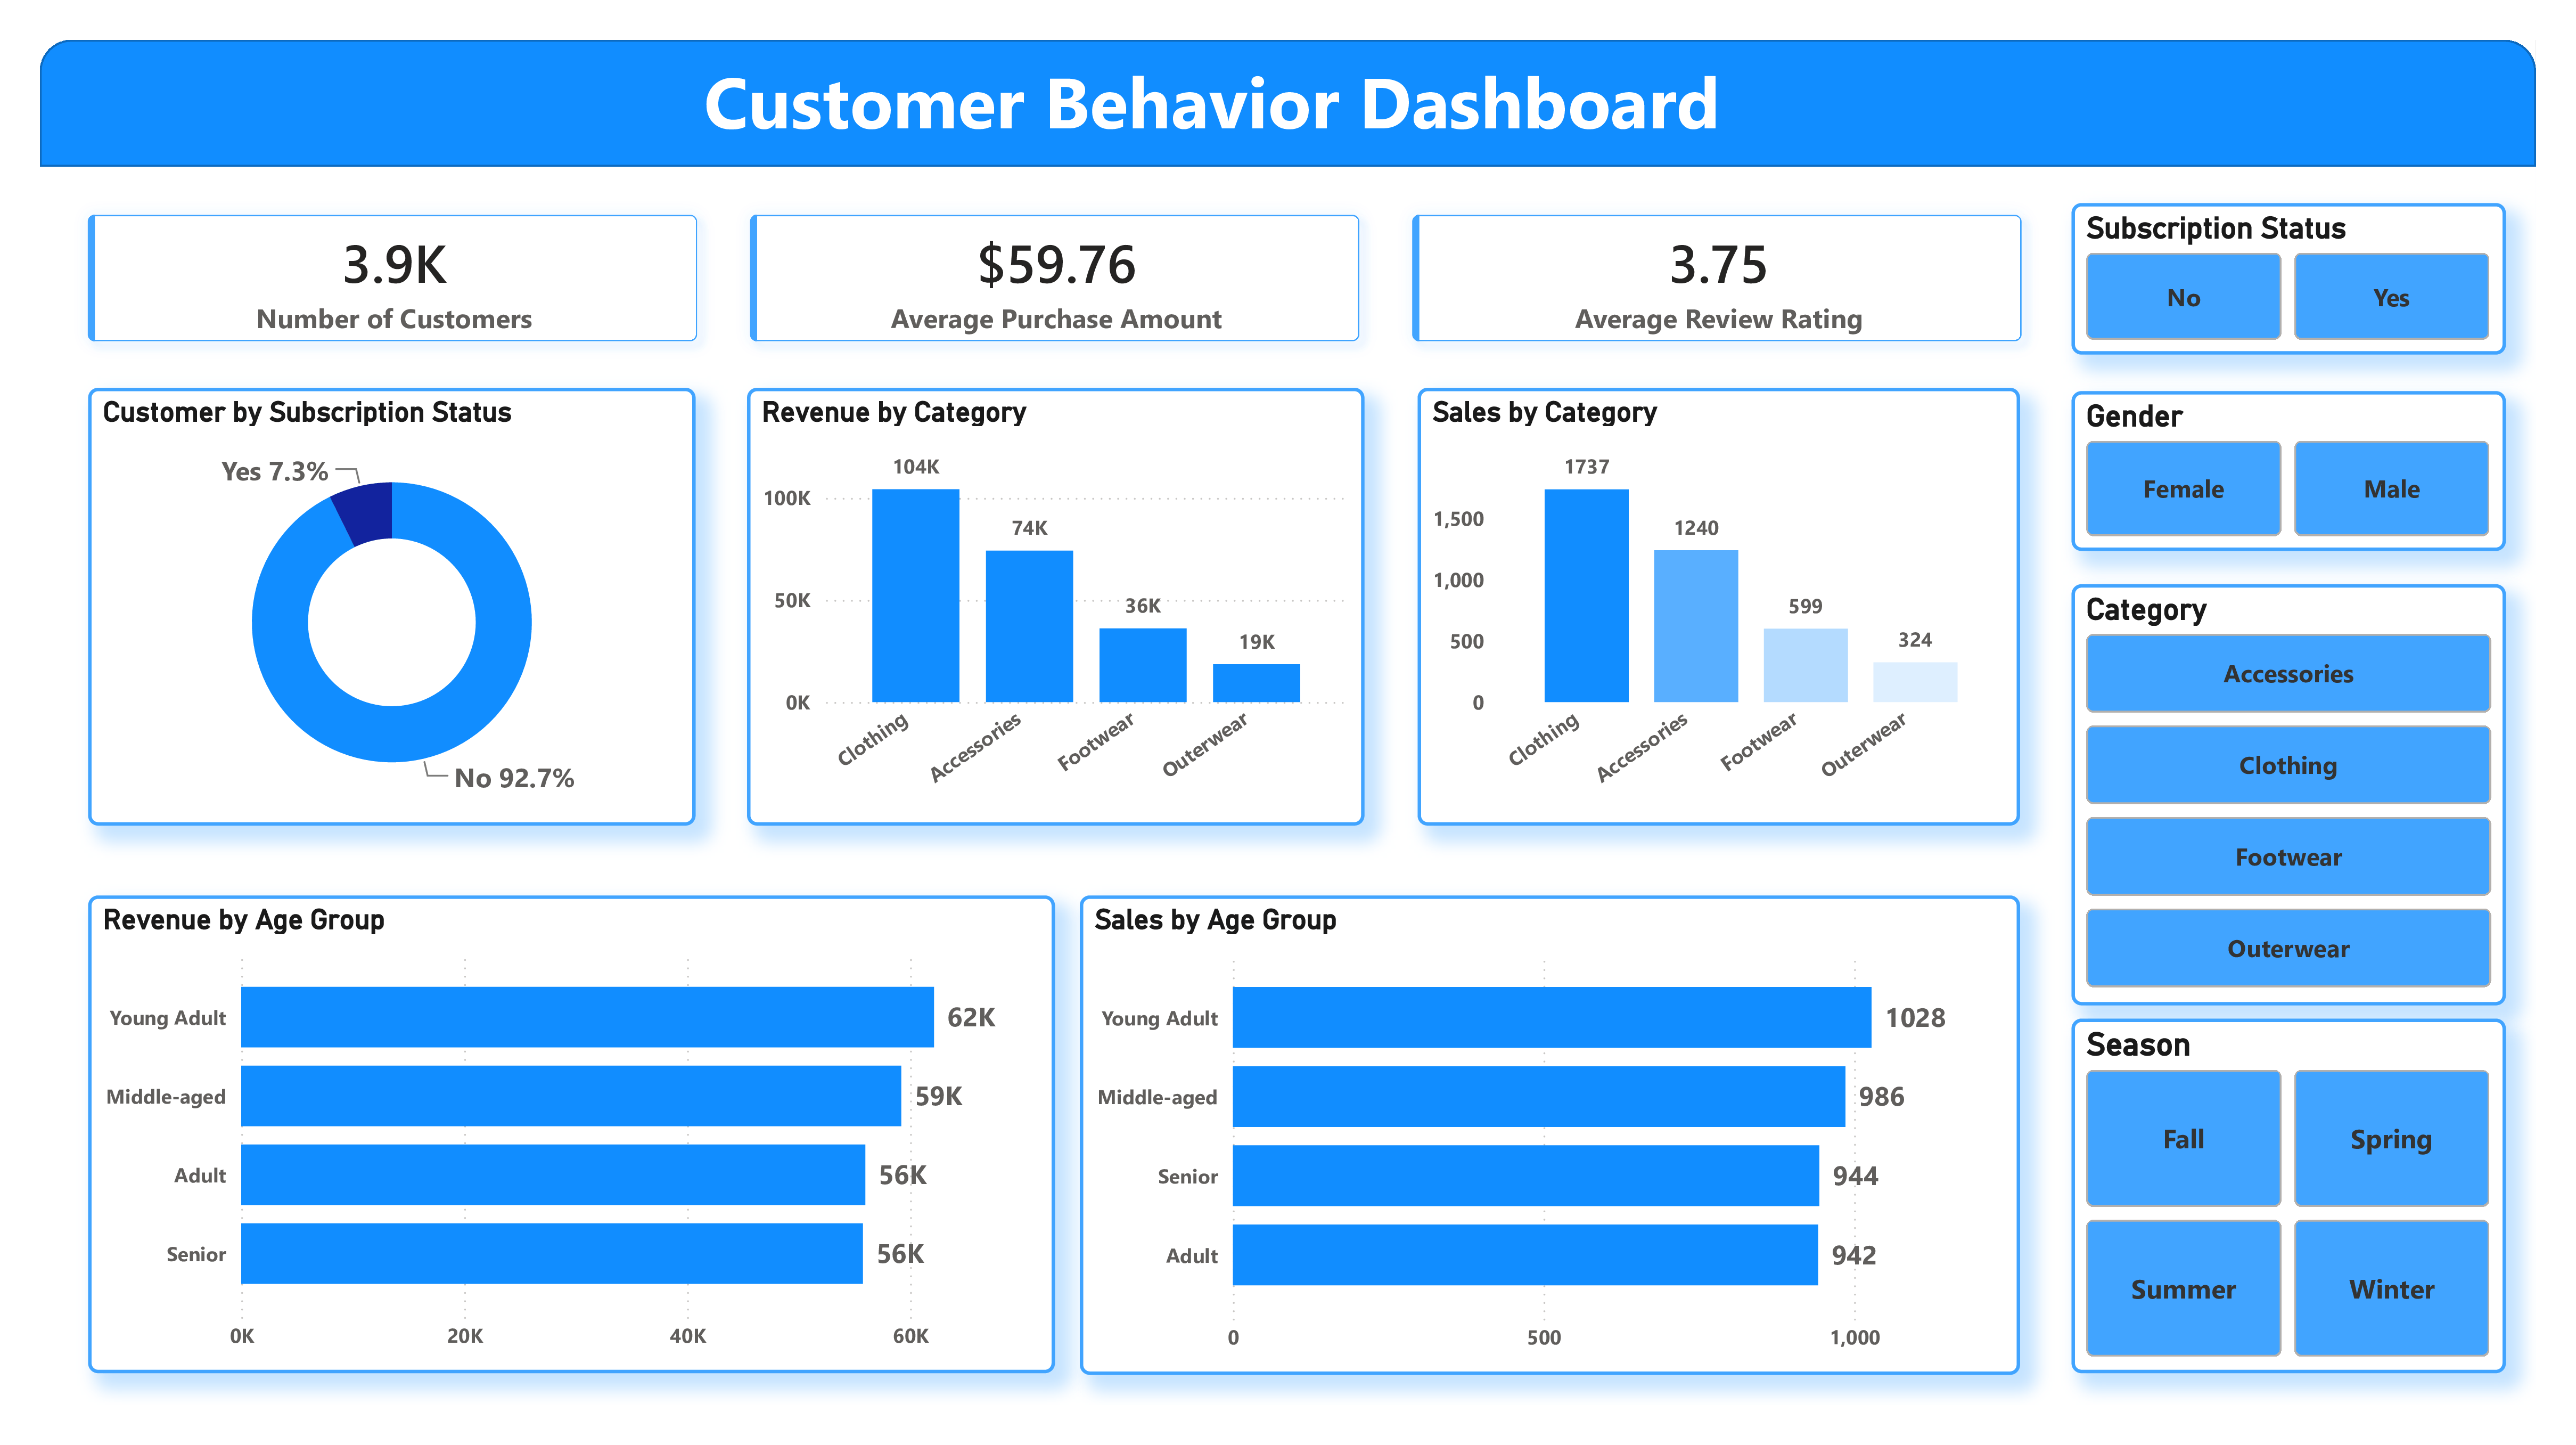

What the dashboard file says about the page in this screenshot:
{"tool":"powerbi","page":{"name":"Page 1","canvas":[1500,820],"ordinal":0},"visuals":[{"type":"cardVisual","fields":{"Data":["public customer.Number of Customers","public customer.Average Purchase Amount","public customer.Average Review Rating"]},"box":[0,75.9,1220.5,134.9],"z":0},{"type":"shape","box":[0,0,1500.3,75.9],"z":1000},{"type":"textbox","box":[394.5,1.7,662.5,74.2],"z":2000},{"type":"donutChart","title":"Customer by Subscription Status","fields":{"Category":["public customer.subscription_status"],"Y":["Sum(public customer.customer_id)"]},"box":[28.7,209,365.8,263],"z":3000},{"type":"columnChart","title":"Revenue by Category","fields":{"Y":["Sum(public customer.purchase_amount)"],"Category":["public customer.category"]},"box":[424.8,209,370.9,263],"z":4000},{"type":"columnChart","title":"Sales by Category","fields":{"Category":["public customer.category"],"Y":["CountNonNull(public customer.customer_id)"]},"box":[827.7,209,362.4,263],"z":5000},{"type":"advancedSlicerVisual","title":"Subscription Status","fields":{"Values":["public customer.subscription_status"]},"box":[1220.5,97.8,261.3,91],"z":6000},{"type":"advancedSlicerVisual","title":"Gender","fields":{"Values":["public customer.gender"]},"box":[1220.5,210.7,261.3,96.1],"z":7000},{"type":"advancedSlicerVisual","title":"Category","fields":{"Values":["public customer.category"]},"box":[1220.5,327,261.3,252.9],"z":8000},{"type":"advancedSlicerVisual","title":"Season","fields":{"Values":["public customer.season"]},"box":[1220.5,588.3,261.3,212.4],"z":9000},{"type":"clusteredBarChart","title":"Revenue by Age Group","fields":{"Y":["Sum(public customer.purchase_amount)"],"Category":["public customer.age_group"]},"box":[28.7,514.2,581.6,286.6],"z":10000},{"type":"clusteredBarChart","title":"Sales by Age Group","fields":{"Category":["public customer.age_group"],"Y":["CountNonNull(public customer.customer_id)"]},"box":[625.4,514.2,564.7,288.3],"z":11000}]}

Visuals, with their boxes in screenshot pixels (x1, y1, x2, y2):
cardVisual - public customer.Number of Customers x public customer.Average Purchase Amount: (13, 162, 2080, 390)
shape: (13, 34, 2554, 162)
textbox: (682, 36, 1803, 162)
"Customer by Subscription Status" donutChart: (62, 388, 682, 833)
"Revenue by Category" columnChart: (733, 388, 1361, 833)
"Sales by Category" columnChart: (1415, 388, 2029, 833)
"Subscription Status" advancedSlicerVisual: (2080, 199, 2523, 354)
"Gender" advancedSlicerVisual: (2080, 390, 2523, 553)
"Category" advancedSlicerVisual: (2080, 587, 2523, 1016)
"Season" advancedSlicerVisual: (2080, 1030, 2523, 1390)
"Revenue by Age Group" clusteredBarChart: (62, 905, 1047, 1390)
"Sales by Age Group" clusteredBarChart: (1072, 905, 2029, 1393)
